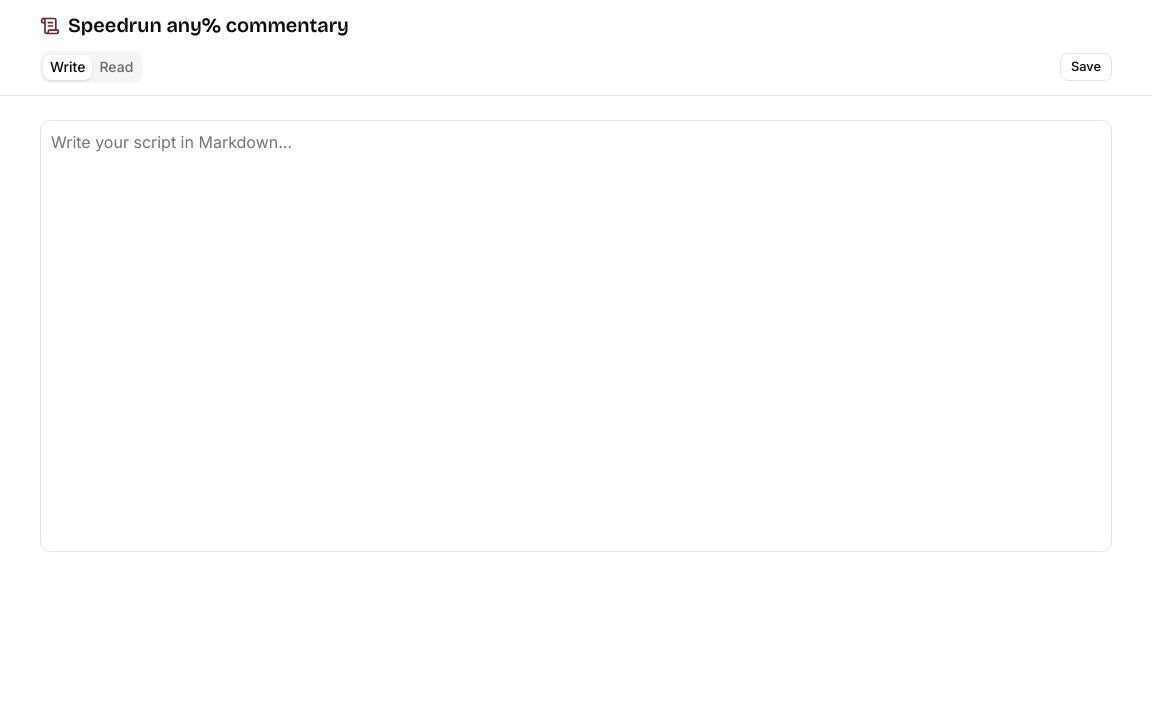
Scenario: ScriptEditor › autosaves after the debounce window and shows the saved indicator
Type "# Hook" into the text box labelled "script" at (576, 336), box [40,120,1112,552]
Wait 1800 ms
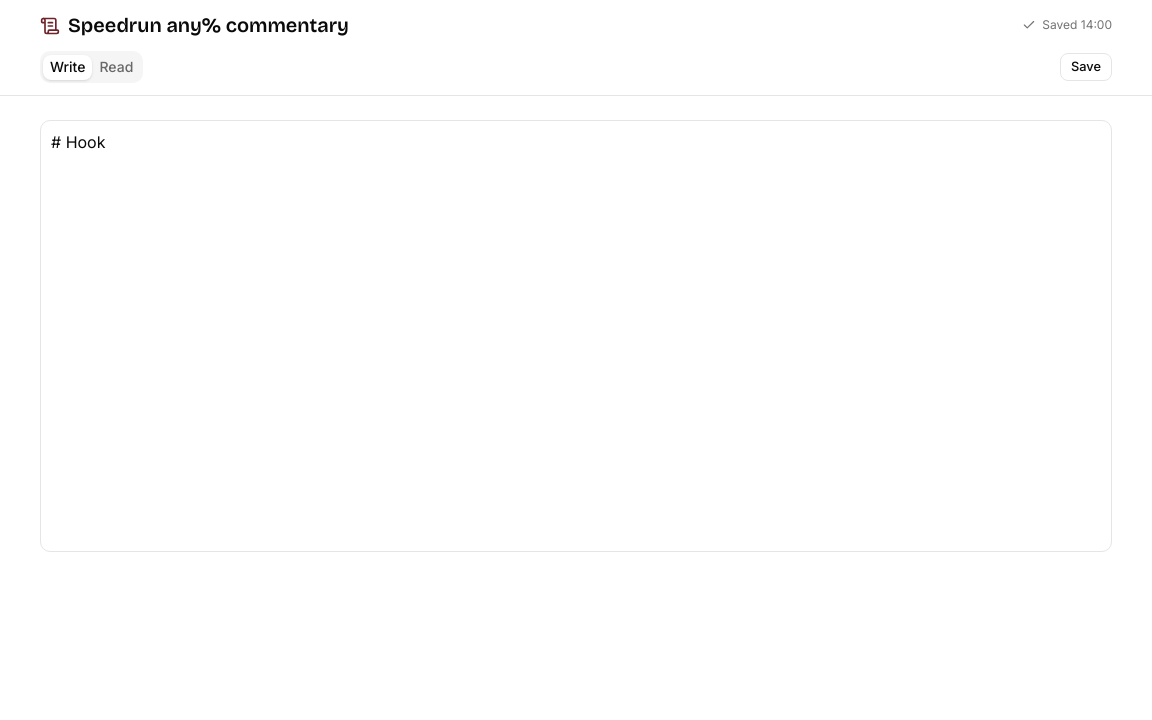
expect the text "Saved 14:00" is shown: met, box [1022,17,1112,34]
